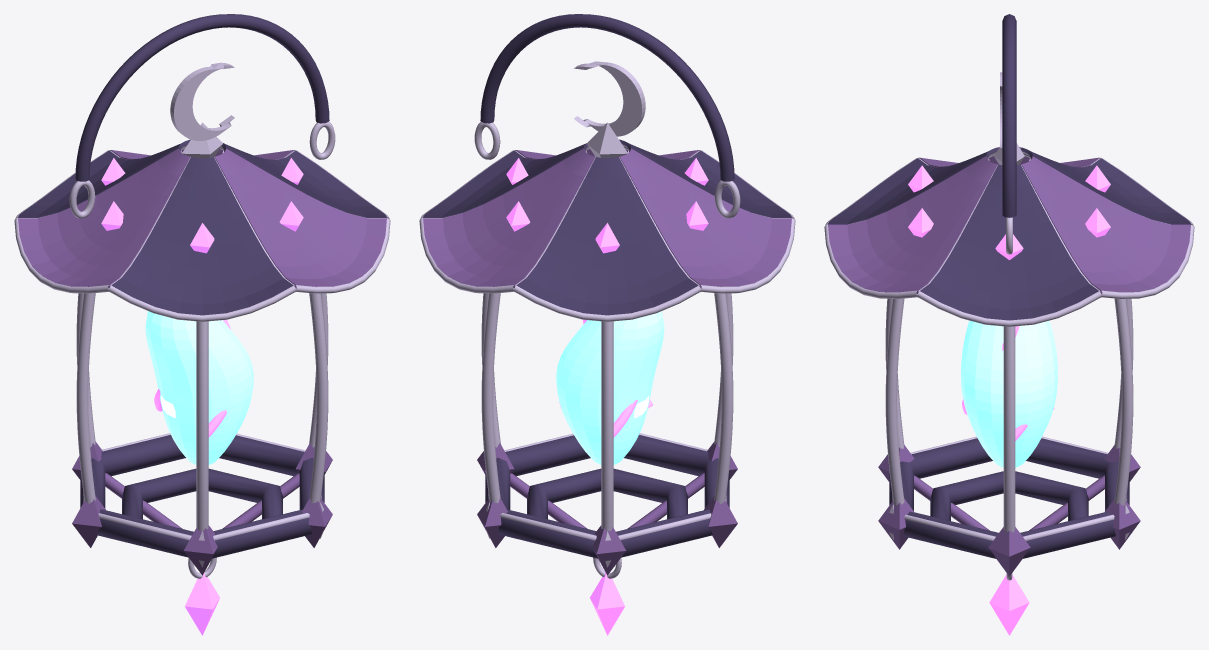
The model's file is bella-lantern.glb.
The picture shows the model from 3 angles, left to right: view 1: azimuth 30°, elevation 25°; view 2: azimuth 150°, elevation 25°; view 3: azimuth 270°, elevation 25°; orthographic projection.
Visible parts, largest first — view 1: Scalloped petal roof 4, Scalloped petal roof 5, Scalloped petal roof 3, Swirling cyan soul, Hexagonal cage rim.001, Carrying arch, Foot, Scalloped petal roof 0, Curved open cage rib 4, Scalloped petal roof 2, Curved open cage rib 3, Curved open cage rib 5 (+16 smaller); view 2: Scalloped petal roof 2, Scalloped petal roof 1, Scalloped petal roof 3, Swirling cyan soul, Hexagonal cage rim.001, Carrying arch, Foot, Scalloped petal roof 0, Curved open cage rib 2, Scalloped petal roof 4, Curved open cage rib 1, Curved open cage rib 3 (+16 smaller); view 3: Scalloped petal roof 0, Scalloped petal roof 5, Scalloped petal roof 1, Swirling cyan soul, Hexagonal cage rim.001, Foot, Scalloped petal roof 2, Scalloped petal roof 4, Carrying arch, Curved open cage rib 0, Curved open cage rib 1, Curved open cage rib 5 (+13 smaller).
Boxes of the visible parts, x1,y1,x2,y2 form: Scalloped petal roof 4: (111,157,293,315); Scalloped petal roof 5: (214,148,386,288); Scalloped petal roof 3: (18,148,190,288); Swirling cyan soul: (145,311,253,464); Hexagonal cage rim.001: (80,435,324,558); Carrying arch: (75,14,329,181); Foot: (122,468,282,519); Scalloped petal roof 0: (221,143,386,217); Curved open cage rib 4: (196,321,208,531); Scalloped petal roof 2: (18,139,190,217); Curved open cage rib 3: (76,293,95,503); Curved open cage rib 5: (309,293,328,503); Scalloped petal roof 2: (516,157,698,315); Scalloped petal roof 1: (423,148,595,288); Scalloped petal roof 3: (619,148,791,288); Swirling cyan soul: (556,311,664,464); Hexagonal cage rim.001: (485,435,729,558); Carrying arch: (480,14,734,181); Foot: (527,468,687,519); Scalloped petal roof 0: (423,143,588,217); Curved open cage rib 2: (601,321,613,531); Scalloped petal roof 4: (619,139,791,217); Curved open cage rib 1: (481,293,500,503); Curved open cage rib 3: (714,293,733,503); Scalloped petal roof 0: (920,164,1098,320); Scalloped petal roof 5: (828,156,997,293); Scalloped petal roof 1: (1021,156,1190,293); Swirling cyan soul: (961,320,1057,467); Hexagonal cage rim.001: (889,438,1129,558); Foot: (930,471,1088,520); Scalloped petal roof 2: (1021,147,1190,224); Scalloped petal roof 4: (828,147,997,224); Carrying arch: (1002,14,1016,217); Curved open cage rib 0: (1003,326,1015,532); Curved open cage rib 1: (1114,298,1133,505); Curved open cage rib 5: (885,298,904,505).
Bounding box in the file's own units: 0.312 × 0.566 × 0.312.
